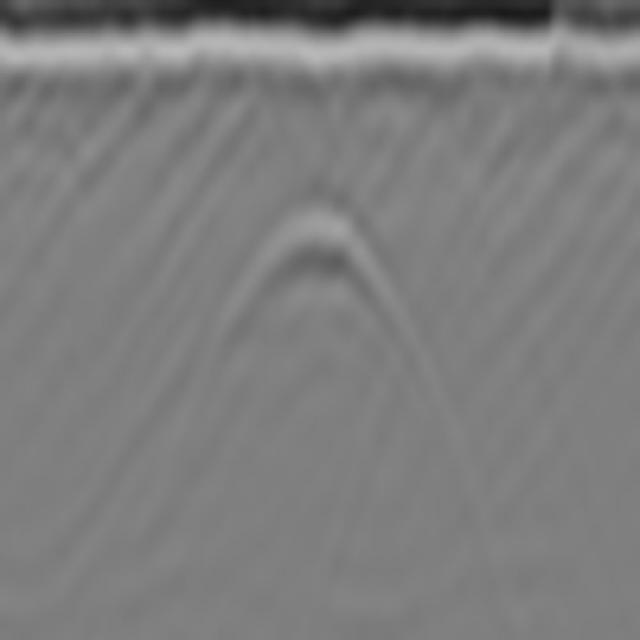hyperbola: (220, 192, 423, 416)
